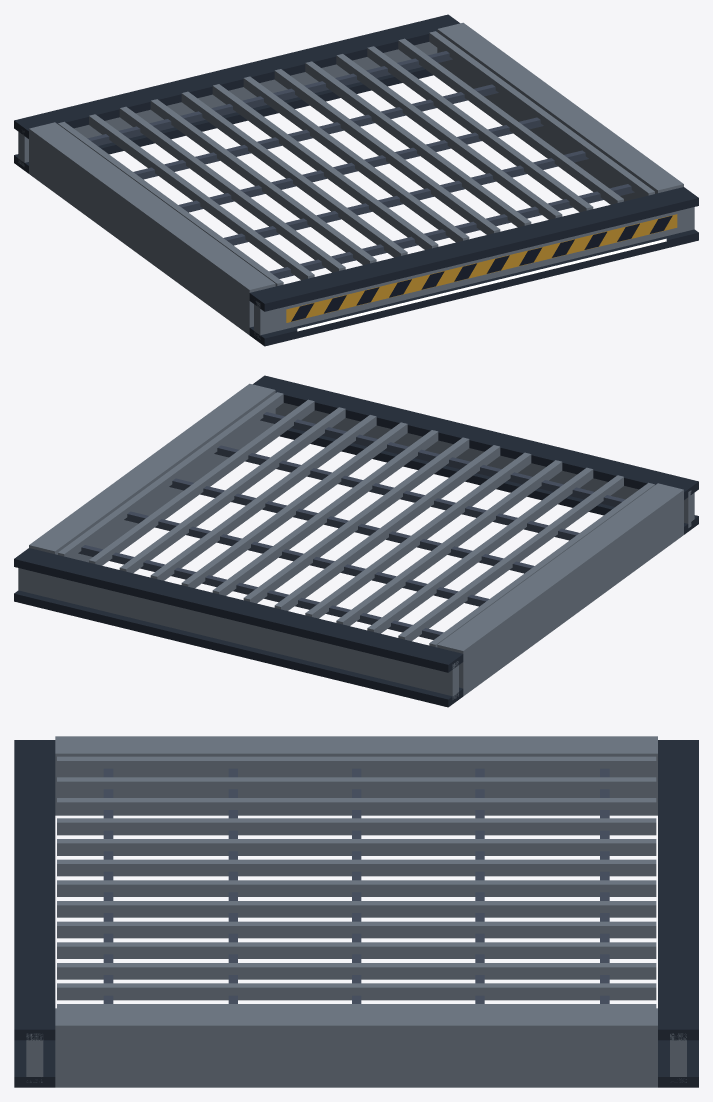
Rendered from fus_catwalk_deck.glb.
3 renders of one model, top to bottom at view 1: azimuth 30°, elevation 25°; view 2: azimuth 150°, elevation 25°; view 3: azimuth 270°, elevation 25°, orthographic. The views are drawn at different scales.
Parts seen in each view (by area): view 1: beam_web, beam_flange, grate_crossbar, warning_band, slash, underside_led; view 2: beam_web, beam_flange, grate_crossbar; view 3: beam_web, beam_flange, grate_crossbar.
Boxes of the visible parts, left/top/right/bottom form: beam_web: left=18, top=22, right=694, bottom=339; beam_flange: left=14, top=14, right=698, bottom=346; grate_crossbar: left=87, top=51, right=634, bottom=278; warning_band: left=286, top=214, right=677, bottom=322; slash: left=291, top=215, right=672, bottom=321; underside_led: left=297, top=238, right=666, bottom=331; beam_web: left=18, top=383, right=694, bottom=699; beam_flange: left=14, top=375, right=698, bottom=707; grate_crossbar: left=78, top=412, right=625, bottom=639; beam_web: left=26, top=736, right=686, bottom=1087; beam_flange: left=14, top=740, right=698, bottom=1087; grate_crossbar: left=103, top=768, right=609, bottom=1003.
Size of the model in its own units: 4 by 0.4 by 4.
